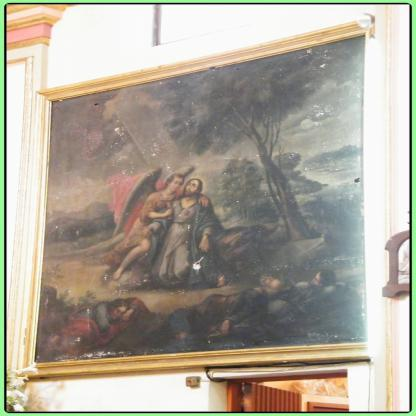Picture-frame: (7, 15, 369, 382)
